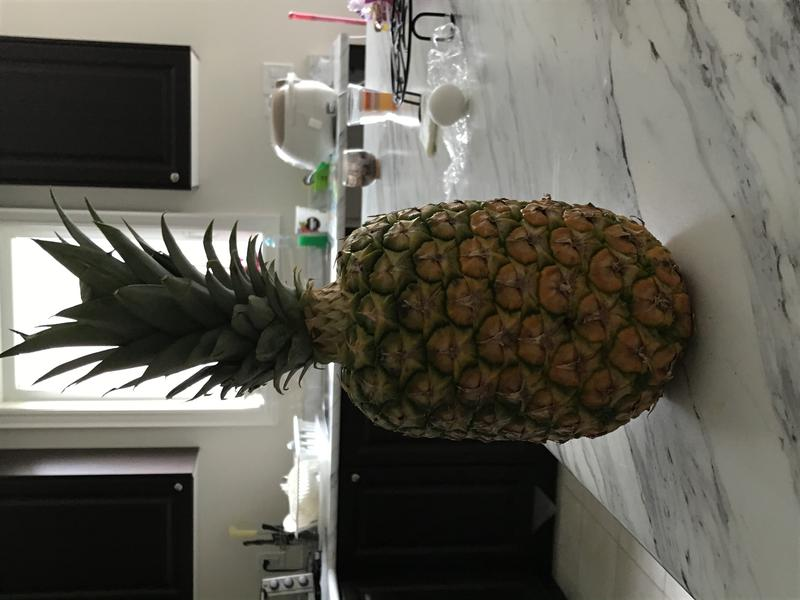pineapple: (13, 184, 701, 459)
